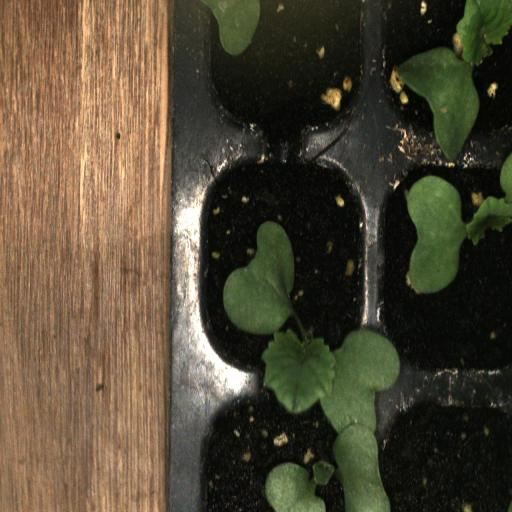Folha: (200, 0, 270, 57)
Germinacao: (188, 146, 371, 404), (373, 150, 509, 396), (372, 0, 512, 149)
